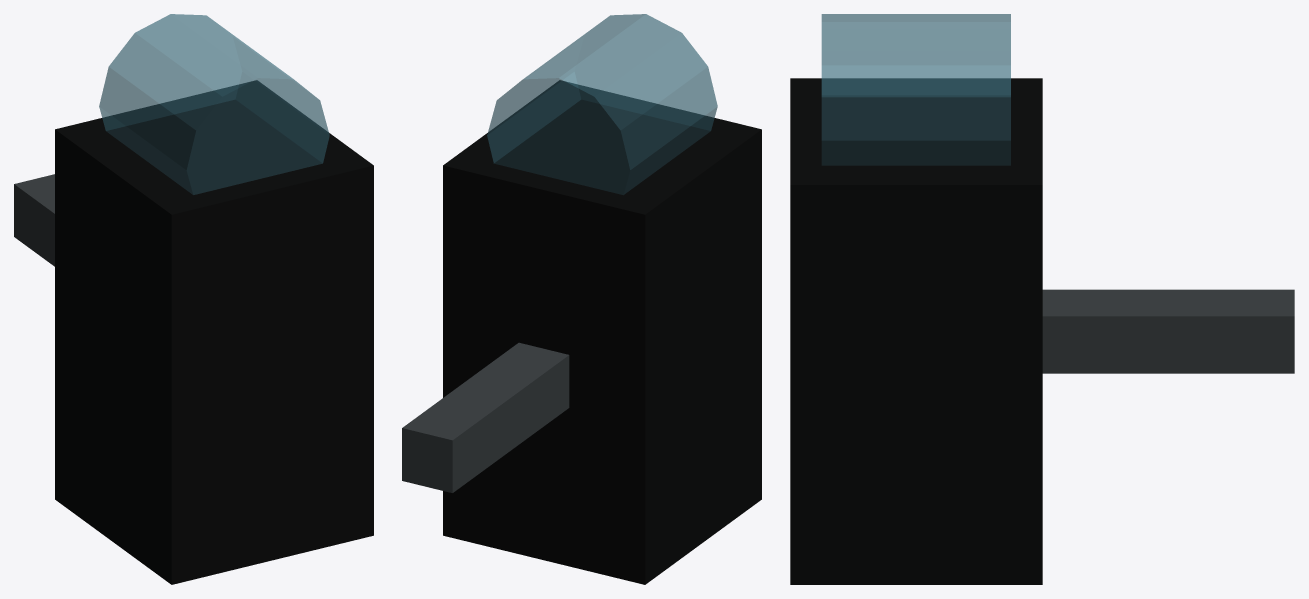
File: cctv_camera.obj
The picture shows the model from 3 angles, left to right: view 1: azimuth 30°, elevation 25°; view 2: azimuth 150°, elevation 25°; view 3: azimuth 270°, elevation 25°; orthographic projection. The views are drawn at different scales.
Visible parts, largest first — view 1: cctv_camera; view 2: cctv_camera; view 3: cctv_camera.
Part boxes in pixels (x1,y1,x2,y2): cctv_camera: [14, 14, 373, 584]; cctv_camera: [402, 14, 761, 584]; cctv_camera: [790, 14, 1294, 584].
Size of the model in its own units: 0.24 by 0.535 by 0.48.
